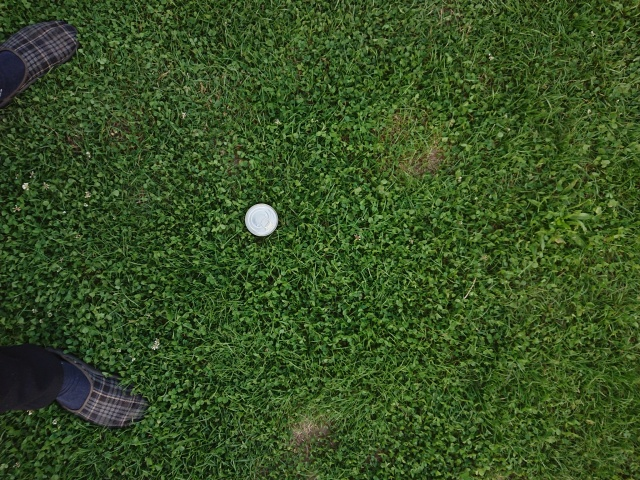Podravka Luncheon Meat 150g: (243, 201, 280, 239)
